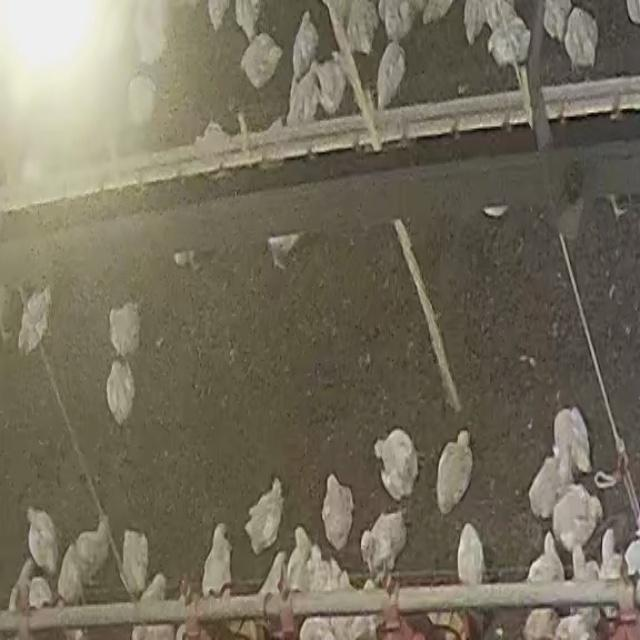chicken: (550, 484, 600, 556), (360, 509, 408, 581), (434, 429, 480, 502), (244, 477, 285, 555), (320, 473, 356, 553), (553, 406, 591, 477), (372, 436, 414, 499), (486, 17, 531, 74), (562, 6, 599, 74), (284, 64, 323, 128), (26, 506, 60, 576), (17, 286, 52, 354), (527, 452, 563, 518), (202, 523, 234, 597), (236, 34, 283, 84), (120, 526, 152, 596), (374, 42, 406, 110), (311, 56, 347, 116), (454, 522, 488, 585), (105, 358, 136, 427), (526, 530, 565, 584), (107, 301, 142, 359), (292, 11, 321, 77), (56, 542, 86, 604), (346, 0, 380, 53), (286, 527, 313, 592), (127, 73, 158, 125), (378, 0, 413, 45), (542, 0, 572, 45)
